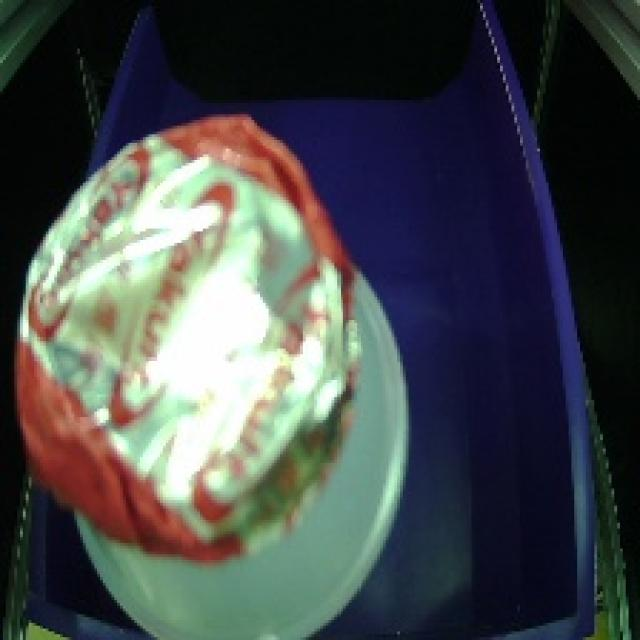plastic: (0, 100, 423, 640)
